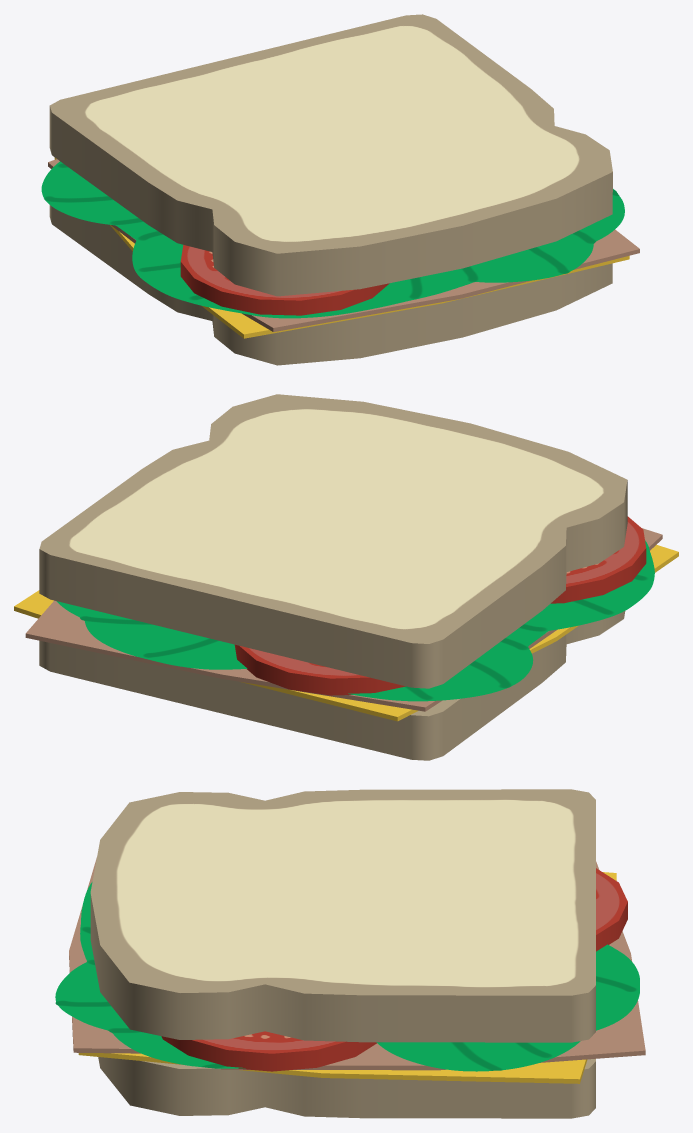
File: Sandwich.fbx
3 views of the same model, one above another, from view 1: azimuth 30°, elevation 25°; view 2: azimuth 150°, elevation 25°; view 3: azimuth 270°, elevation 25° (orthographic). The views are drawn at different scales.
Visible parts, largest first — view 1: Bread1, Bread, Lettuce, Tomato4, Meat, Cheese; view 2: Bread1, Bread, Lettuce, Meat1, Tomato3, Tomato4, Cheese; view 3: Bread1, Bread, Lettuce, Tomato, Meat1, Cheese, Meat, Tomato3.
Part boxes in pixels (x1,y1,x2,y2): Bread1: [49, 14, 612, 296]; Bread: [49, 205, 612, 365]; Lettuce: [41, 161, 624, 318]; Tomato4: [180, 245, 389, 315]; Meat: [111, 225, 639, 331]; Cheese: [54, 157, 629, 338]; Bread1: [39, 394, 627, 688]; Bread: [39, 611, 625, 760]; Lettuce: [56, 540, 654, 701]; Meat1: [25, 600, 442, 711]; Tomato3: [234, 644, 405, 695]; Tomato4: [551, 516, 646, 603]; Cheese: [14, 544, 678, 721]; Bread1: [90, 789, 595, 1042]; Bread: [98, 1057, 595, 1118]; Lettuce: [55, 882, 639, 1071]; Tomato: [161, 1031, 376, 1071]; Meat1: [221, 861, 645, 1070]; Cheese: [78, 872, 616, 1083]; Meat: [69, 857, 378, 1053]; Tomato3: [596, 868, 627, 951].
Bounding box in the file's own units: 2.67 × 0.5436 × 2.67.
5 materials, 4 textured.
